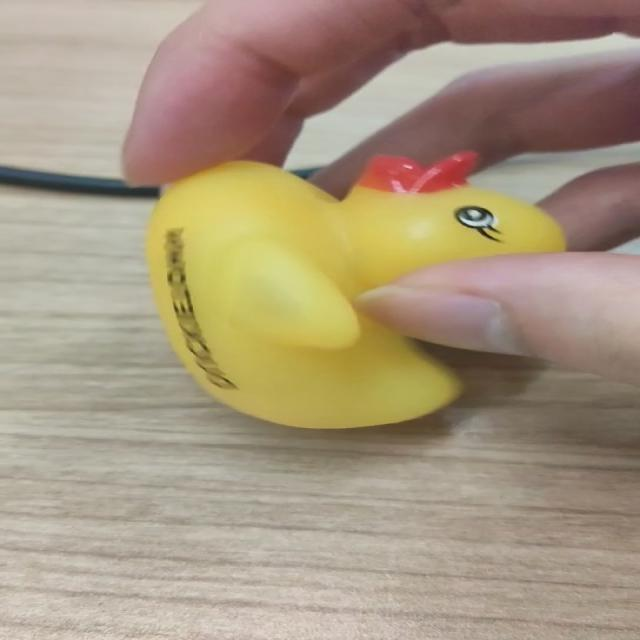rubber-duck: (146, 151, 564, 426)
